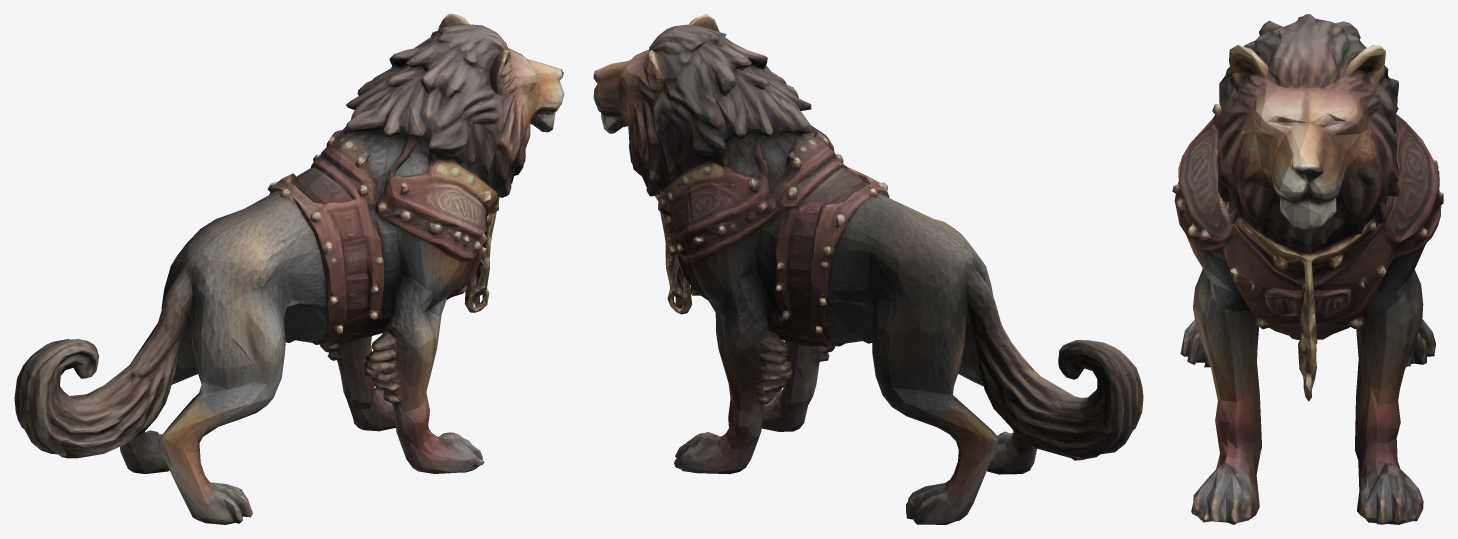
The model's file is arenaLionWolf.glb.
3 renders of one model, left to right at view 1: azimuth 30°, elevation 25°; view 2: azimuth 150°, elevation 25°; view 3: azimuth 270°, elevation 25°, orthographic. The views are drawn at different scales.
Visible parts, largest first — view 1: world; view 2: world; view 3: world.
Boxes of the visible parts, box(x1,y1,x2,y2) form: world: box(14, 14, 564, 524); world: box(593, 14, 1143, 524); world: box(1172, 14, 1443, 524).
Bounding box in the file's own units: 0.9961 × 0.7121 × 0.34.
Materials: 1 (1 with a texture image).
